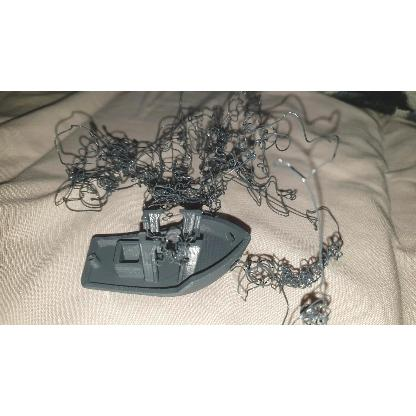fail: (53, 104, 309, 209), (244, 250, 318, 290)
